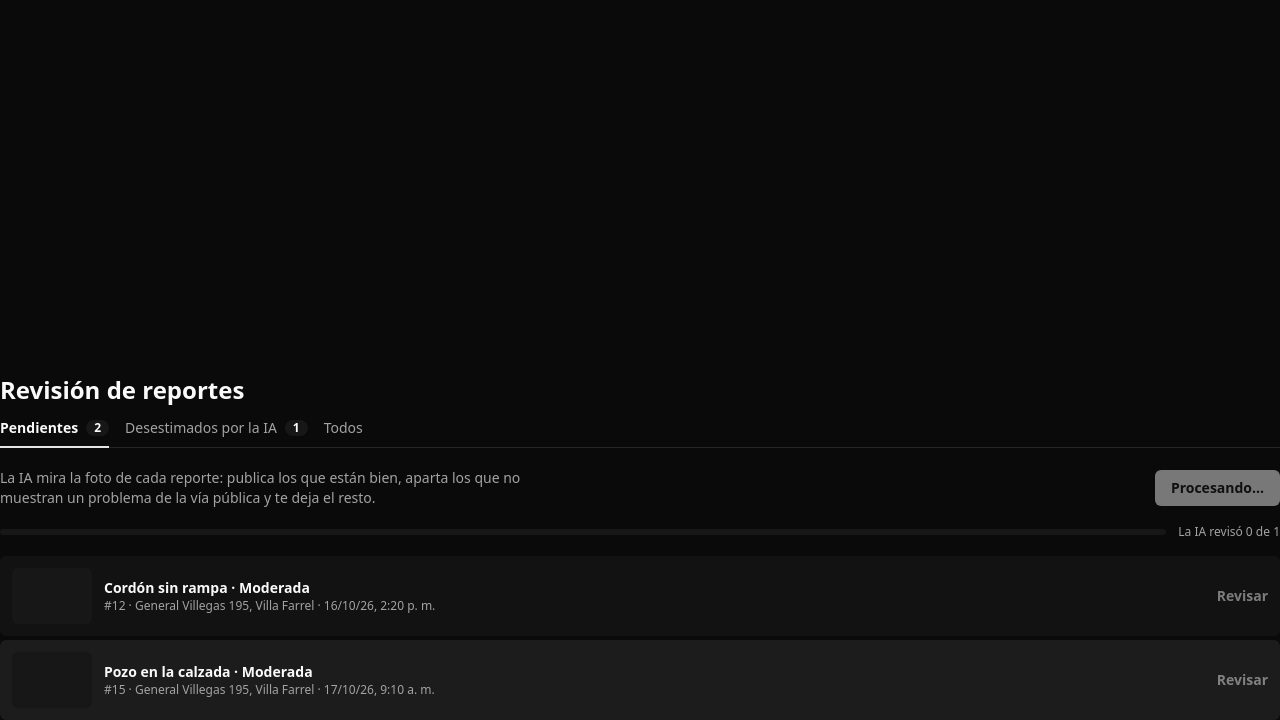
desestimados por la IA › mientras la IA procesa no se puede desestimar todos
(page scrolled)
What coordinates should you click on to do the following:
click the button "Desestimados por la IA 1"
I would click on:
 (216, 433)
Its box is left=125, top=418, right=308, bottom=448.
(page scrolled)
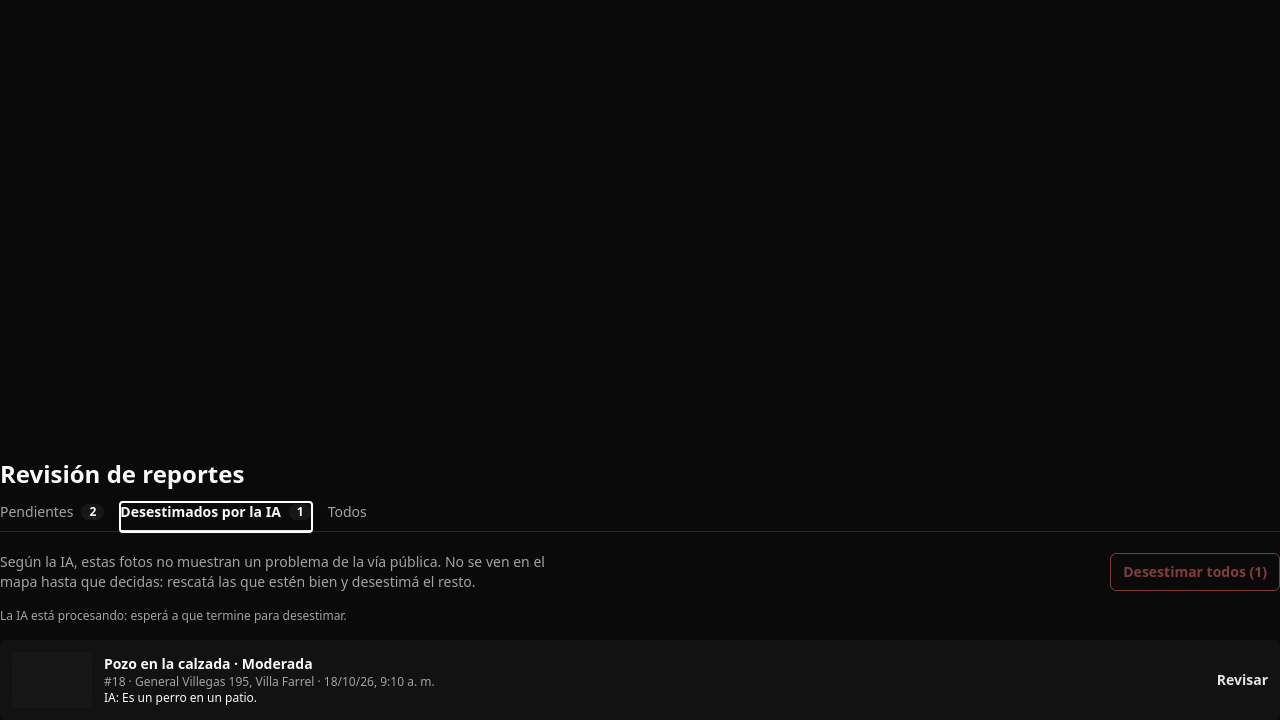
Check: the button "Desestimar todos (1)" is disabled, box left=1110, top=553, right=1279, bottom=591
Check: the text "La IA está procesando: esperá a que termine para desestimar." is shown, box left=0, top=607, right=347, bottom=624
